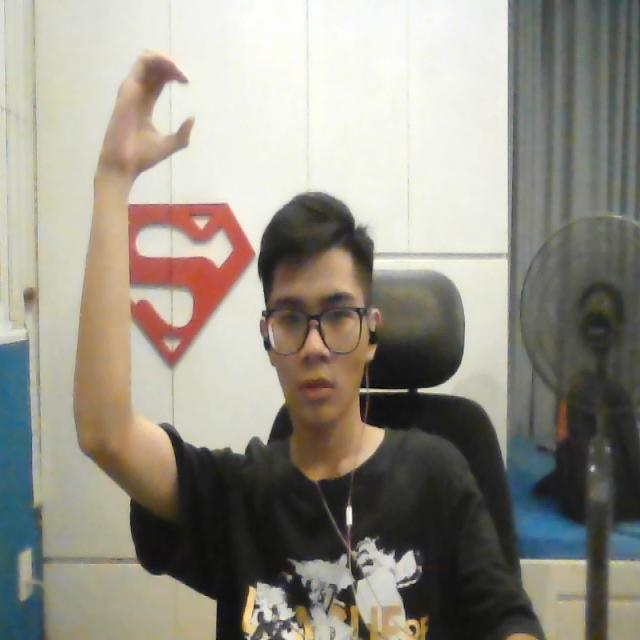C: (91, 58, 193, 172)
